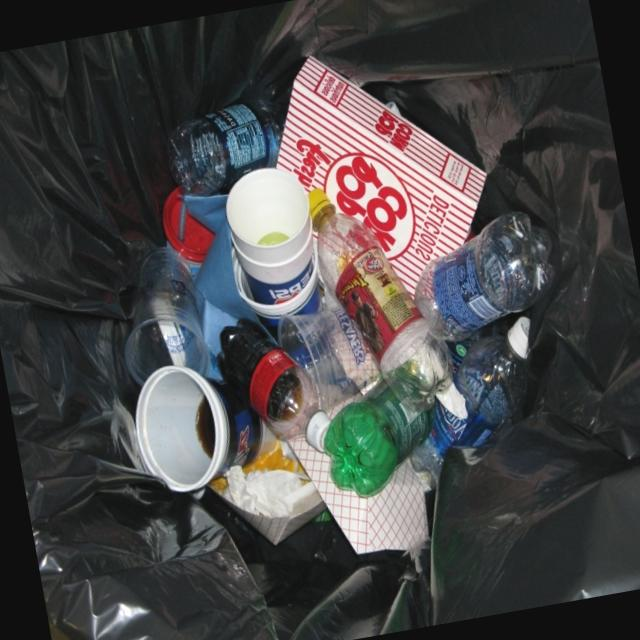garbage: (125, 57, 555, 552)
